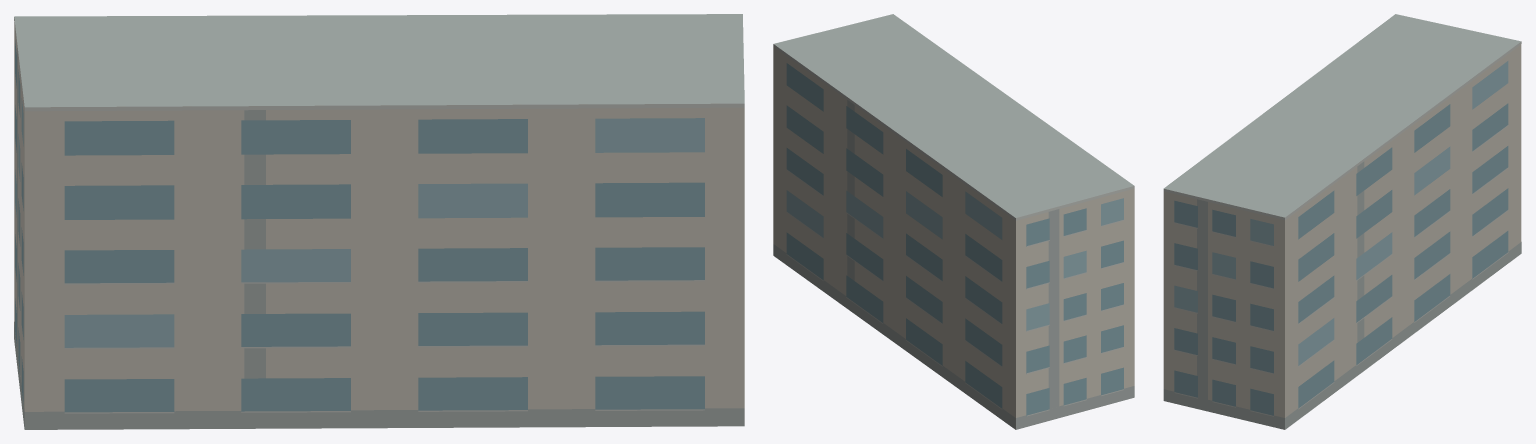
The model's file is survey-upis-32877630.glb.
3 renders of one model, left to right at view 1: azimuth 30°, elevation 25°; view 2: azimuth 150°, elevation 25°; view 3: azimuth 270°, elevation 25°, orthographic. The views are drawn at different scales.
Visible parts, largest first — view 1: survey-upis-32877630.tmp; view 2: survey-upis-32877630.tmp; view 3: survey-upis-32877630.tmp.
Part boxes in pixels (<box>): survey-upis-32877630.tmp: <box>14,14,744,429</box>; survey-upis-32877630.tmp: <box>773,14,1134,429</box>; survey-upis-32877630.tmp: <box>1163,14,1521,429</box>.
Bounding box in the file's own units: 40.33 × 19.6 × 29.96.
